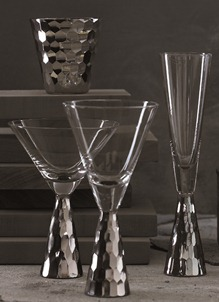Nonrec_Glass: (62, 91, 159, 298), (9, 115, 118, 286), (158, 46, 215, 277), (26, 14, 108, 92)
